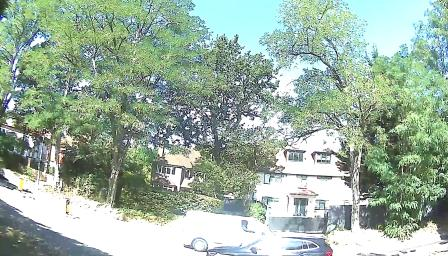Cars: (180, 205, 278, 251), (212, 228, 330, 256)
